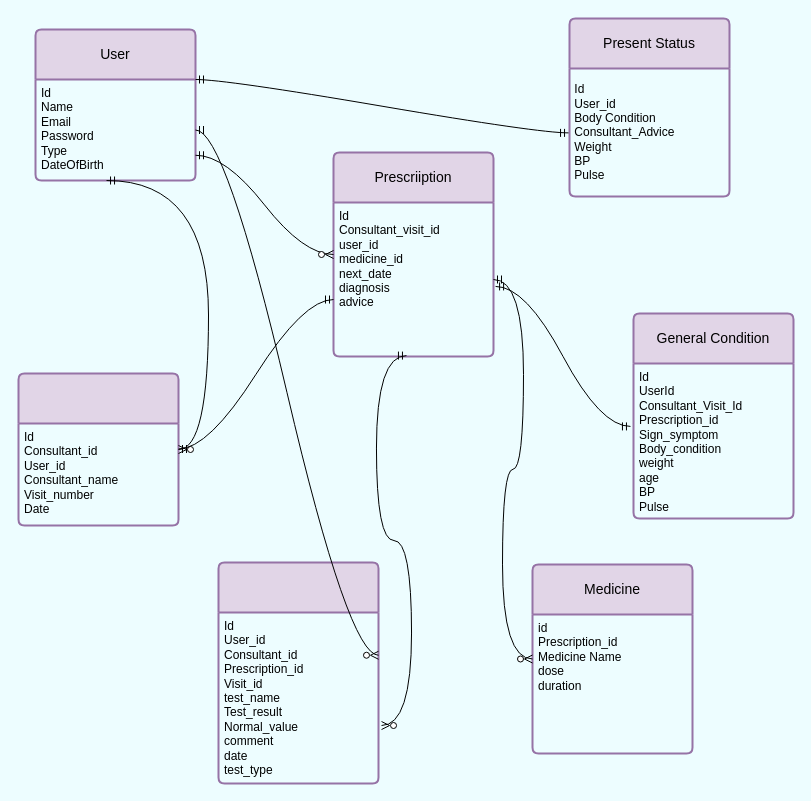
Image size: 811x801. Some labels were removed from this diagram. The box of each missing label's shape, as (x1, y1, x2, y2) in pixels:
Consultant Visit: (17, 372, 179, 526)
Lab Test: (217, 561, 379, 784)
